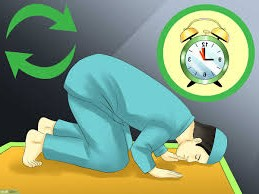sujud: (22, 54, 238, 179)
